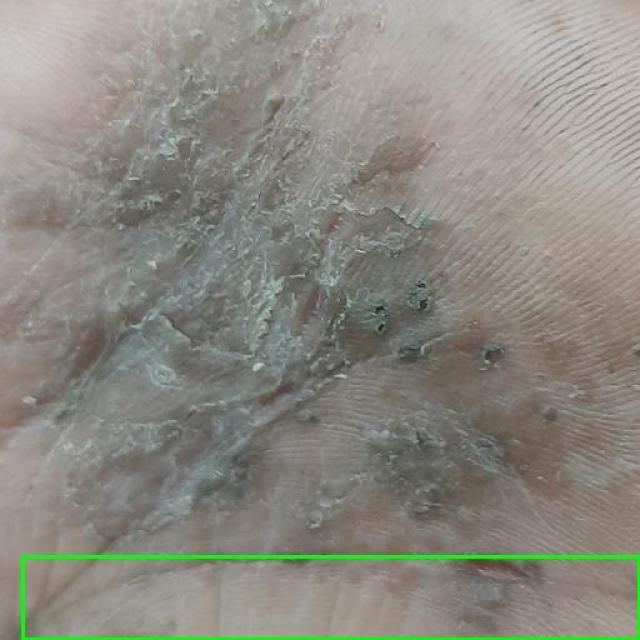Eczema: (22, 556, 639, 639)
